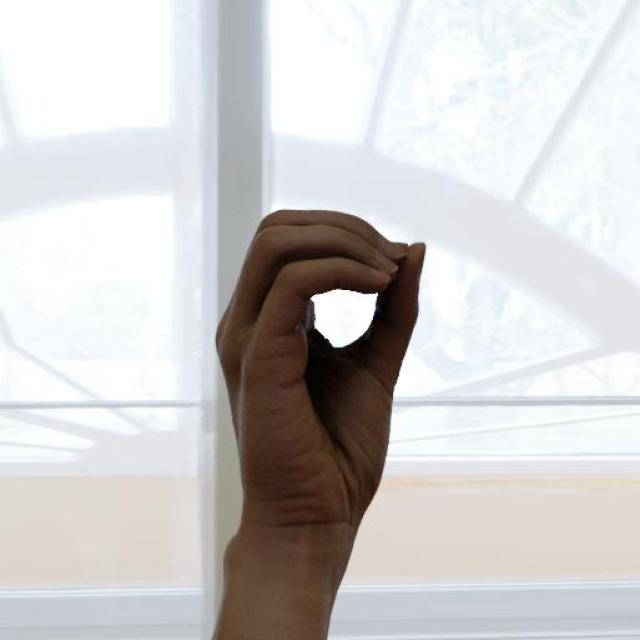O: (203, 194, 437, 548)
